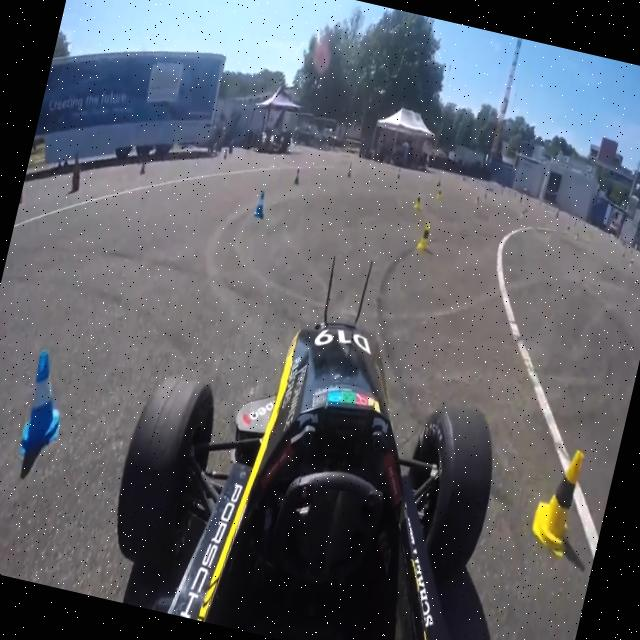blue_cone: (16, 348, 75, 462), (252, 190, 268, 218)
yellow_cone: (526, 442, 586, 556), (416, 218, 434, 252)
